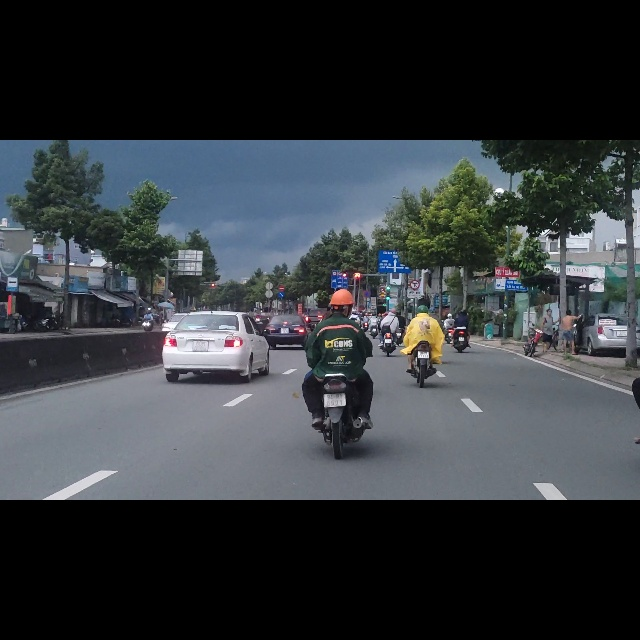bien_chi_dan: (331, 241, 347, 265), (7, 243, 18, 269), (410, 249, 420, 265), (278, 270, 284, 280), (279, 258, 284, 268)
